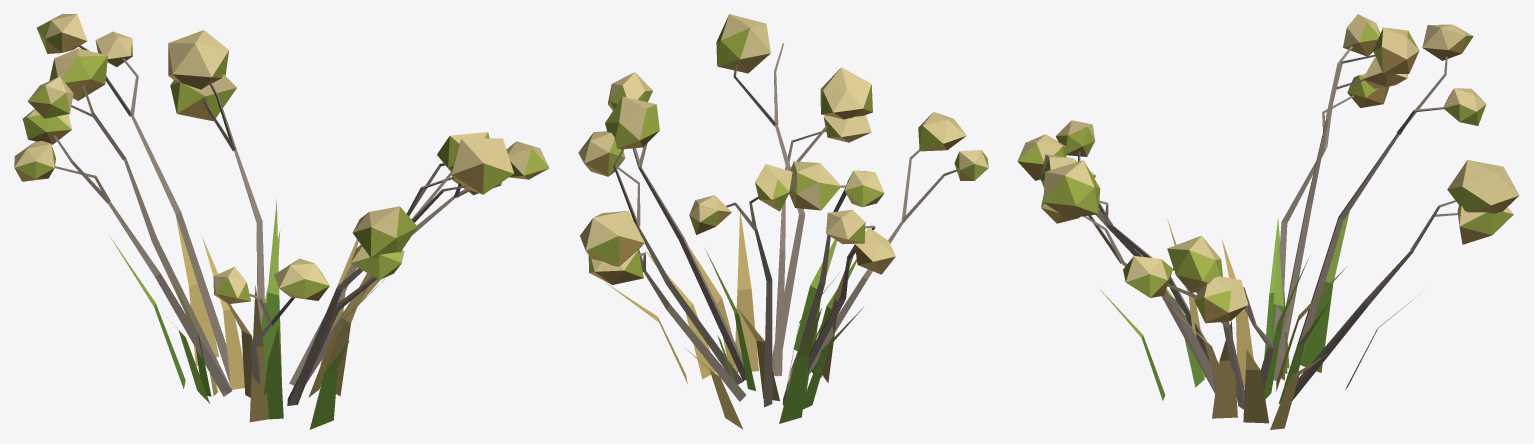
Rendered from F15_DryUndergrowth.glb.
3 views of the same model, side by side, from view 1: azimuth 30°, elevation 25°; view 2: azimuth 150°, elevation 25°; view 3: azimuth 270°, elevation 25° (orthographic). The views are drawn at different scales.
Visible parts, largest first — view 1: F15_DryUndergrowth; view 2: F15_DryUndergrowth; view 3: F15_DryUndergrowth.
Part boxes in pixels (<box>): F15_DryUndergrowth: <box>14,14,549,429</box>; F15_DryUndergrowth: <box>578,14,988,429</box>; F15_DryUndergrowth: <box>1017,14,1519,429</box>.
Size of the model in its own units: 2.01 by 1.54 by 2.15.
